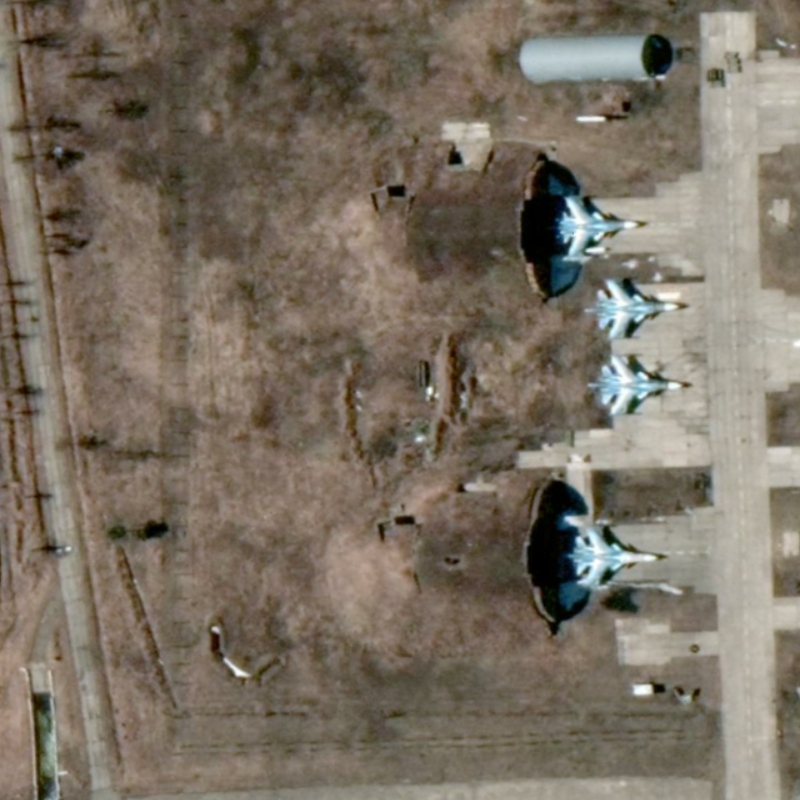A19: (545, 193, 641, 264), (585, 353, 686, 419), (581, 277, 682, 342), (560, 523, 661, 588)
